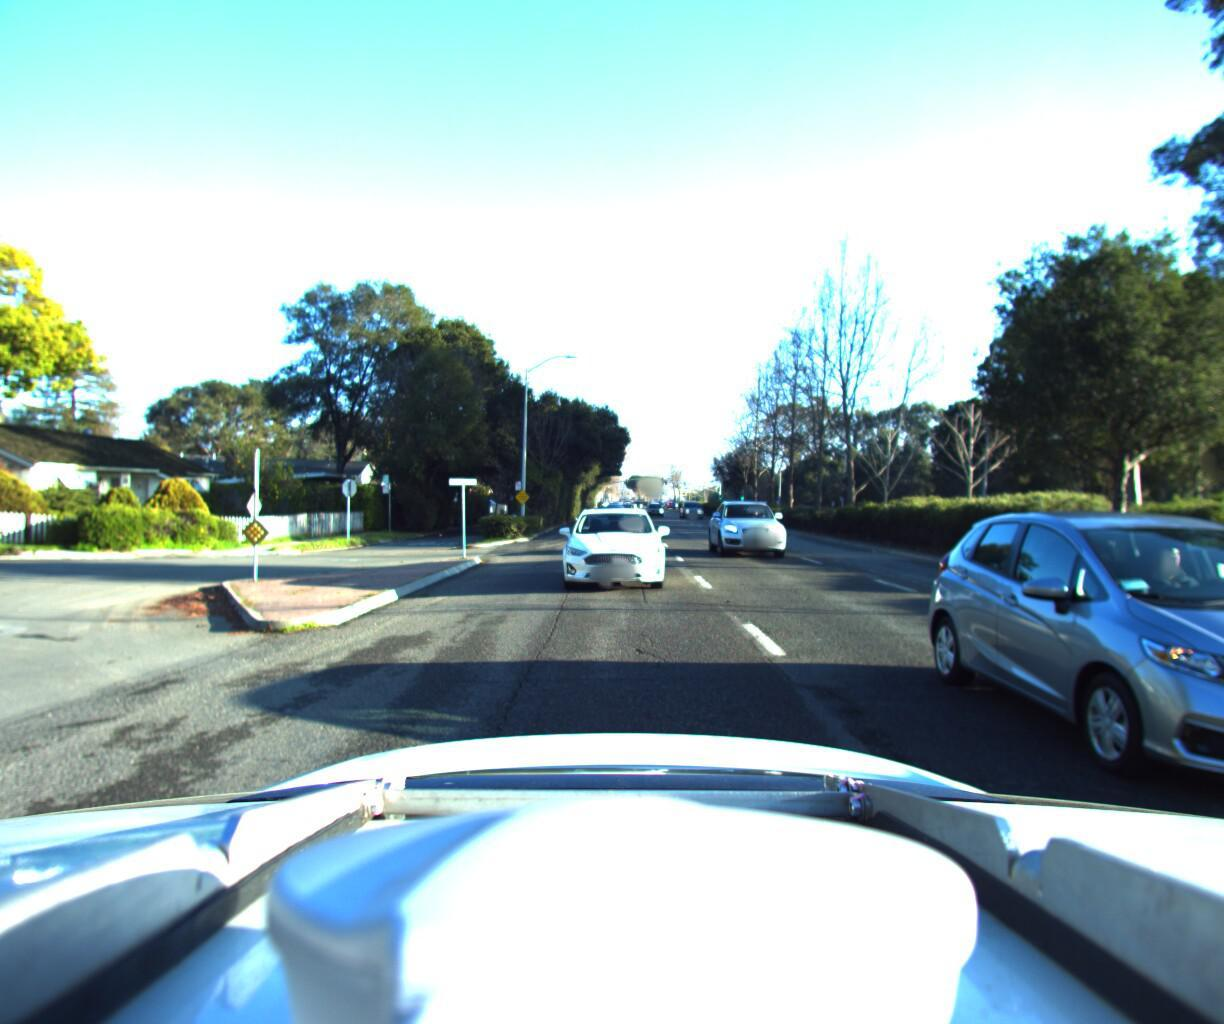car: (981, 504, 1224, 1024), (552, 501, 664, 593), (708, 495, 800, 563), (679, 498, 705, 517)
